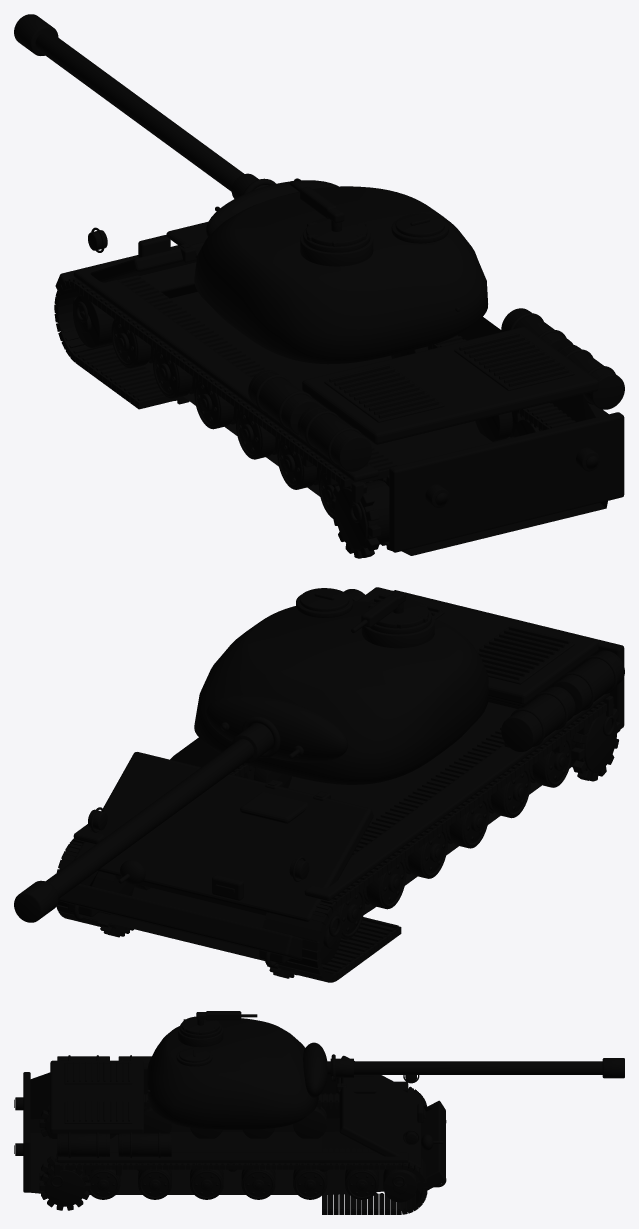
The model's file is is2_model1944_pbr.glb.
The picture shows the model from 3 angles, top to bottom: view 1: azimuth 30°, elevation 25°; view 2: azimuth 150°, elevation 25°; view 3: azimuth 270°, elevation 25°; orthographic projection. The views are drawn at different scales.
Parts seen in each view (by area): view 1: Turret_cast_1944_loft, Rear_hull_plate, Engine_deck_main, Track_run_86_links_L, Hull_welded_trapezoidal_shell, D25T_barrel_main, Full_length_fender_-1, Auxiliary_fuel_tank_-1_1, Drive_sprocket_core_-1, Auxiliary_fuel_tank_-1_2, Lower_nose_plate, Engine_grille_recess_-1 (+17 smaller); view 2: Turret_cast_1944_loft, Upper_glacis_120mm_60deg, Track_run_86_links_L, Hull_welded_trapezoidal_shell, Full_length_fender_-1, Lower_nose_plate, D25T_barrel_main, D25T_cast_mantlet, Engine_deck_main, Auxiliary_fuel_tank_-1_2, Auxiliary_fuel_tank_-1_1, Track_run_86_links_R (+17 smaller); view 3: Turret_cast_1944_loft, Hull_welded_trapezoidal_shell, Track_run_86_links_R, Upper_glacis_120mm_60deg, Engine_deck_main, D25T_barrel_main, Full_length_fender_1, Lower_nose_plate, Engine_grille_recess_-1, Engine_grille_recess_1, Auxiliary_fuel_tank_1_2, Auxiliary_fuel_tank_1_1 (+20 smaller).
Part boxes in pixels (box(x1,y1,x2,y2)): Turret_cast_1944_loft: box(194, 186, 487, 364); Rear_hull_plate: box(389, 412, 624, 552); Engine_deck_main: box(302, 327, 598, 444); Track_run_86_links_L: box(54, 275, 397, 487); Hull_welded_trapezoidal_shell: box(143, 292, 607, 555); D25T_barrel_main: box(35, 31, 243, 191); Full_length_fender_-1: box(73, 266, 378, 481); Auxiliary_fuel_tank_-1_1: box(297, 406, 371, 471); Drive_sprocket_core_-1: box(335, 480, 389, 549); Auxiliary_fuel_tank_-1_2: box(248, 370, 320, 434); Lower_nose_plate: box(55, 245, 197, 306); Engine_grille_recess_-1: box(324, 365, 444, 422); Turret_cast_1944_loft: box(194, 601, 488, 784); Upper_glacis_120mm_60deg: box(73, 752, 373, 921); Track_run_86_links_L: box(262, 702, 606, 982); Hull_welded_trapezoidal_shell: box(78, 699, 541, 962); Full_length_fender_-1: box(304, 693, 609, 900); Lower_nose_plate: box(58, 883, 302, 960); D25T_barrel_main: box(46, 739, 253, 898); D25T_cast_mantlet: box(206, 695, 347, 762); Engine_deck_main: box(358, 587, 598, 704); Auxiliary_fuel_tank_-1_2: box(501, 686, 575, 751); Auxiliary_fuel_tank_-1_1: box(553, 650, 624, 715); Track_run_86_links_R: box(56, 763, 256, 937); Turret_cast_1944_loft: box(147, 1018, 318, 1129); Hull_welded_trapezoidal_shell: box(30, 1069, 432, 1194); Track_run_86_links_R: box(65, 1147, 427, 1214); Upper_glacis_120mm_60deg: box(339, 1055, 421, 1168); Engine_deck_main: box(50, 1060, 143, 1134); D25T_barrel_main: box(326, 1061, 602, 1074); Full_length_fender_1: box(57, 1152, 408, 1162); Lower_nose_plate: box(416, 1100, 445, 1193); Engine_grille_recess_-1: box(64, 1063, 132, 1084); Engine_grille_recess_1: box(64, 1102, 132, 1123); Auxiliary_fuel_tank_1_2: box(118, 1133, 171, 1156); Auxiliary_fuel_tank_1_1: box(57, 1133, 109, 1156).
Size of the model in its own units: 3.38 by 2.82 by 9.92.
Materials: 11 (11 with a texture image).
